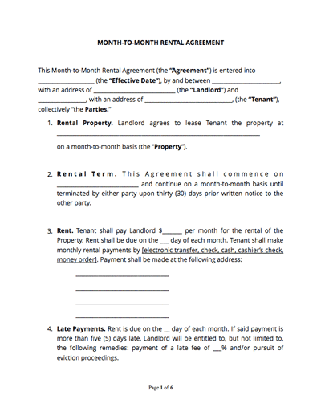textline: (57, 127, 262, 139), (75, 278, 170, 292), (76, 264, 169, 278), (73, 308, 172, 320), (74, 294, 171, 306), (55, 178, 141, 190), (93, 85, 175, 96), (144, 95, 232, 104), (211, 77, 284, 84), (38, 95, 85, 104), (37, 77, 95, 84), (163, 226, 182, 236), (212, 345, 221, 352), (159, 238, 169, 244)
